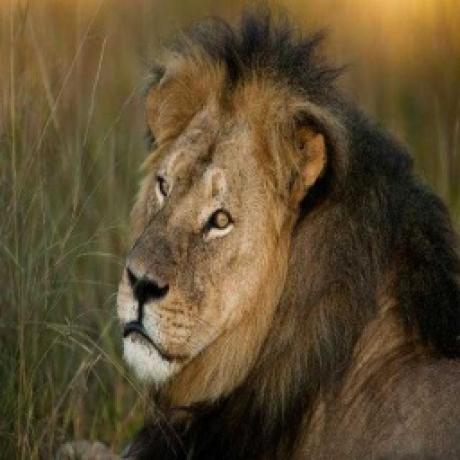Lion: (116, 8, 460, 460)
